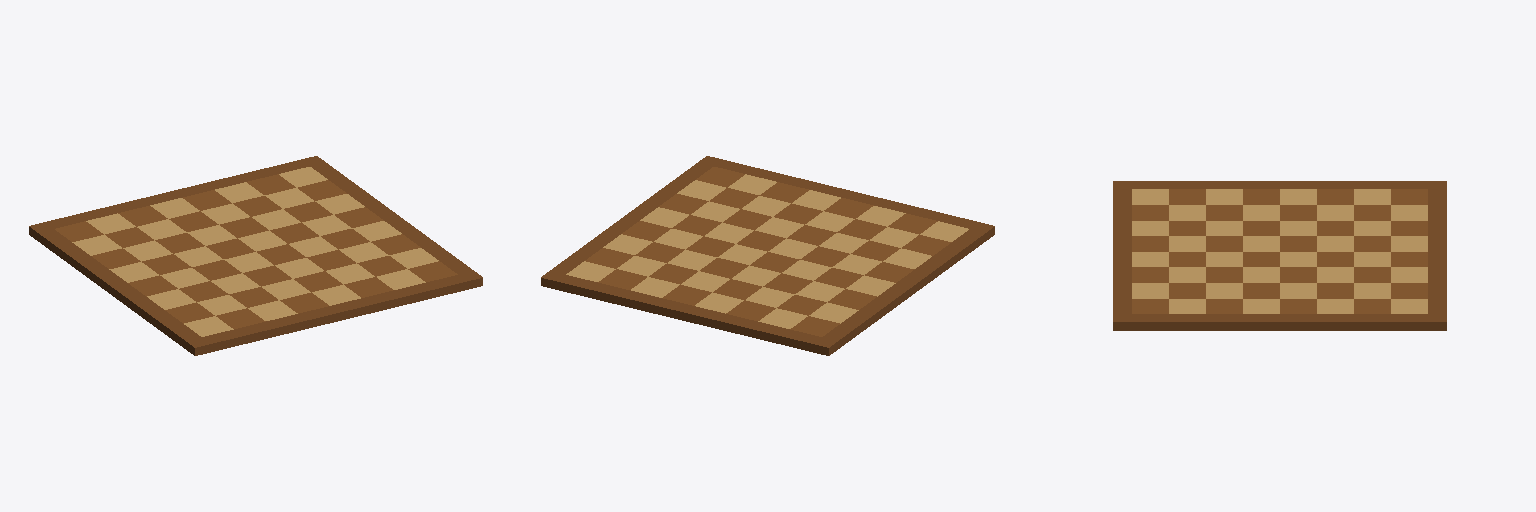
3 renders of one model, left to right at view 1: azimuth 30°, elevation 25°; view 2: azimuth 150°, elevation 25°; view 3: azimuth 270°, elevation 25°, orthographic.
Visible parts, largest first — view 1: cuboid; view 2: cuboid; view 3: cuboid.
Part boxes in pixels (left/top/right/bottom): cuboid: left=29, top=156, right=482, bottom=355; cuboid: left=541, top=156, right=994, bottom=355; cuboid: left=1113, top=181, right=1446, bottom=330.
Size of the model in its own units: 1.12 by 0.0312 by 1.12.
1 materials, 1 textured.